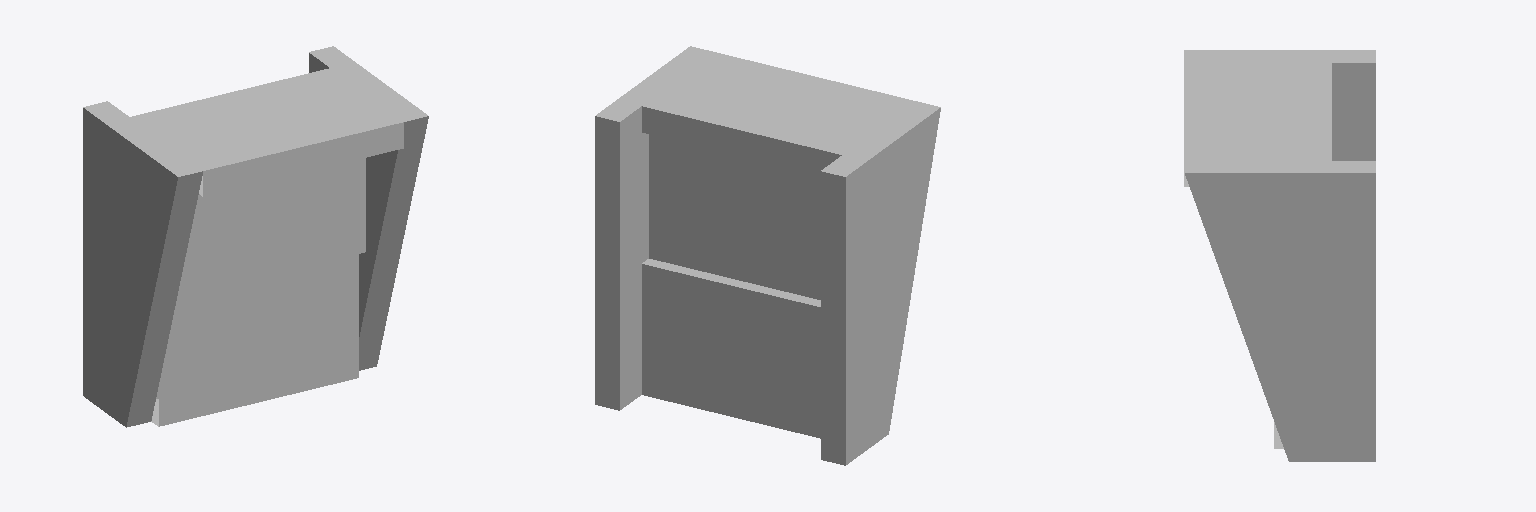
Rendered from mylandscaping_blockm_m_t.obj.
The picture shows the model from 3 angles: view 1: azimuth 30°, elevation 25°; view 2: azimuth 150°, elevation 25°; view 3: azimuth 270°, elevation 25°; orthographic projection.
Parts seen in each view (by area): view 1: Madison_C_T.002_Cube.019; view 2: Madison_C_T.002_Cube.019; view 3: Madison_C_T.002_Cube.019.
Part boxes in pixels (x1,y1,x2,y2): Madison_C_T.002_Cube.019: (83,46,428,427); Madison_C_T.002_Cube.019: (595,46,940,465); Madison_C_T.002_Cube.019: (1184,50,1375,461).
Bounding box in the file's own units: 1 × 1.1 × 0.66.